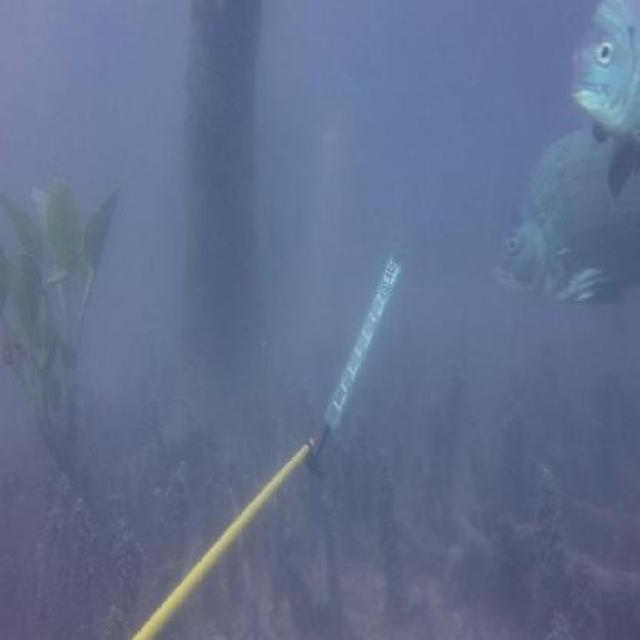acanthopagrus_palmaris: (489, 124, 640, 316), (564, 1, 640, 195)
